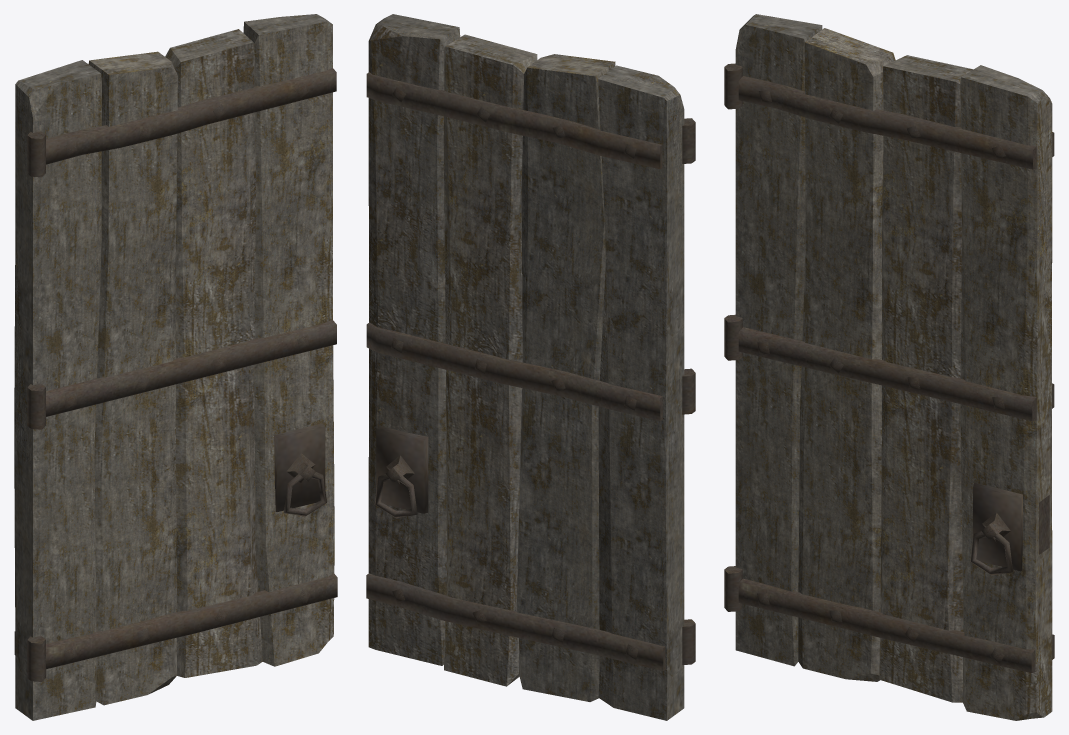
File: door_L.fbx
3 renders of one model, left to right at view 1: azimuth 30°, elevation 25°; view 2: azimuth 150°, elevation 25°; view 3: azimuth 330°, elevation 25°, orthographic.
Visible parts, largest first — view 1: door_L; view 2: door_L; view 3: door_L.
Boxes of the visible parts, x1,y1,x2,y2 form: door_L: (14,14,337,720); door_L: (366,14,695,720); door_L: (724,14,1054,720).
Size of the model in its own units: 51.12 by 100 by 12.69.
